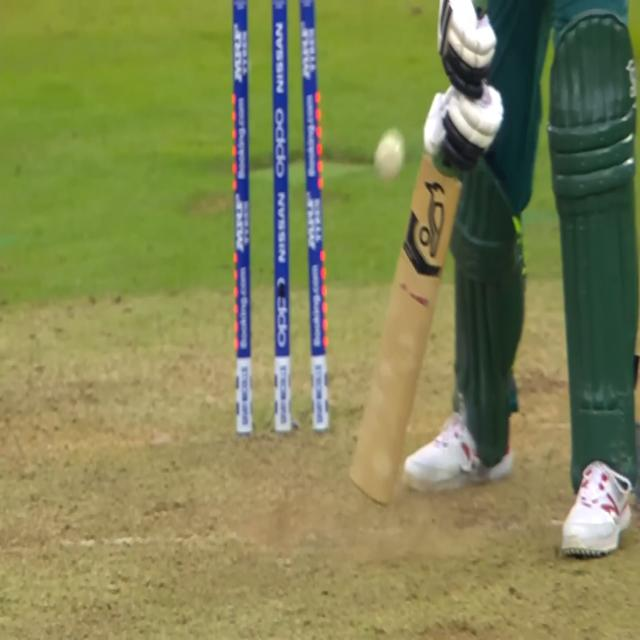ball: (371, 130, 406, 178)
